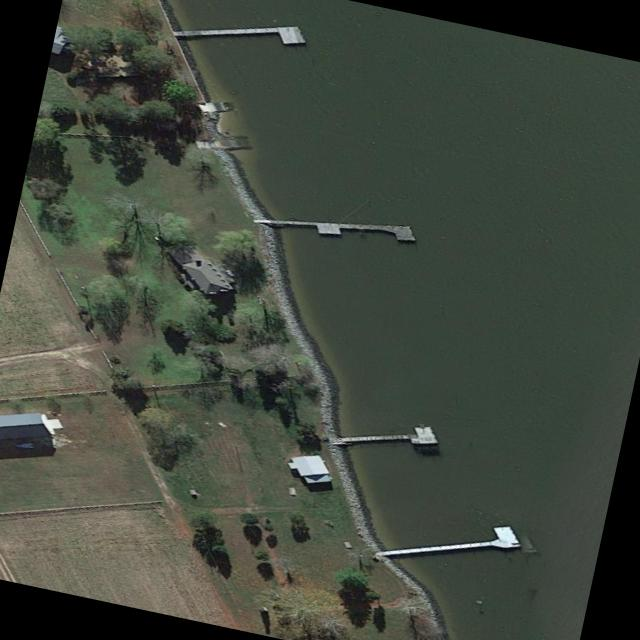ship: (13, 440, 35, 447)
